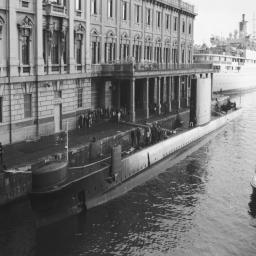submarine: (27, 74, 243, 233)
